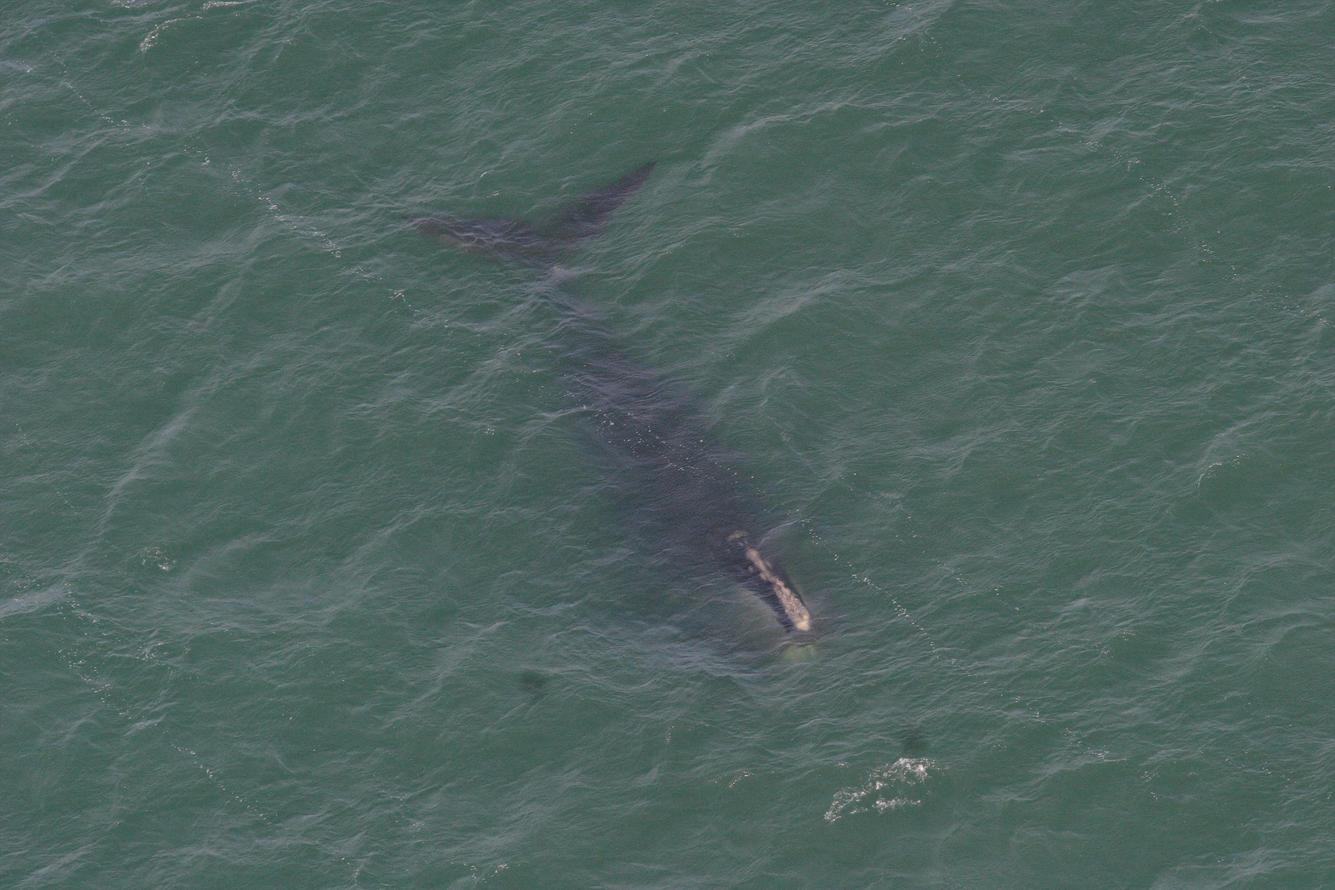whale: (377, 148, 841, 680)
